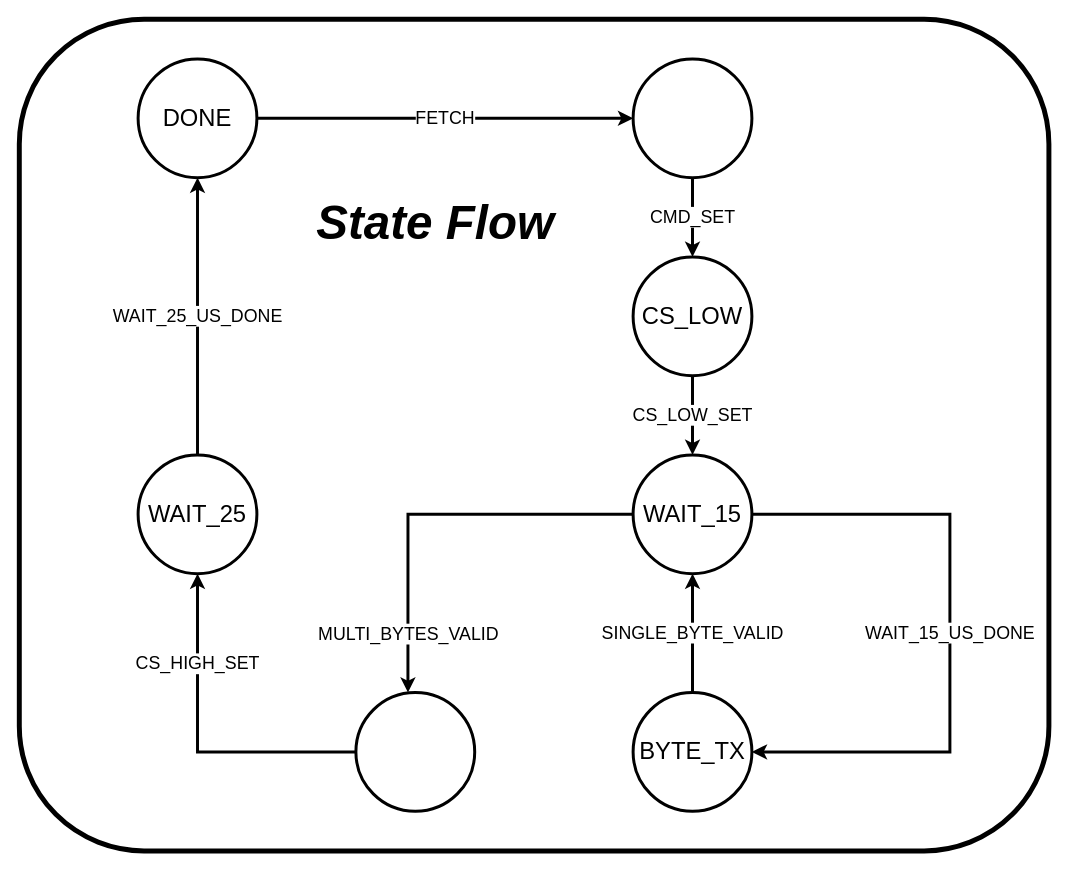
Image size: 1068x870. Some labels were removed from this diagram. Each missing label, with the centre of its shape:
"CS_HIGH" goes at pixel 415 751.
"IDLE" goes at pixel 692 118.
